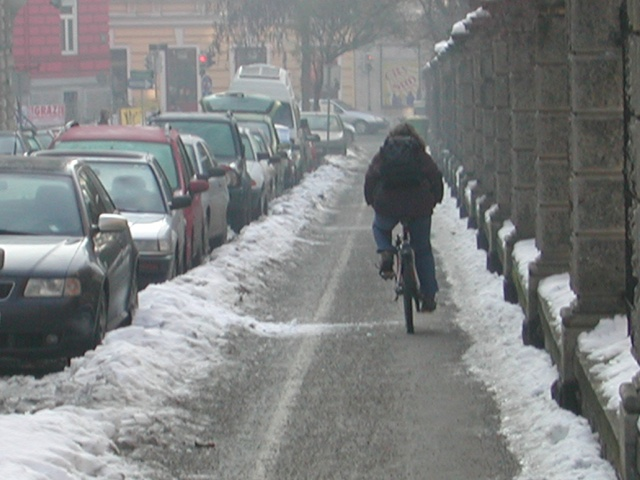person: (368, 119, 442, 325)
